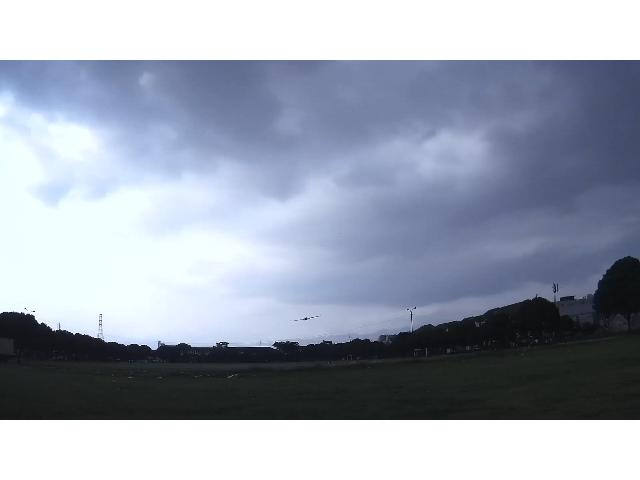Anti-Drone: (290, 315, 322, 321)
